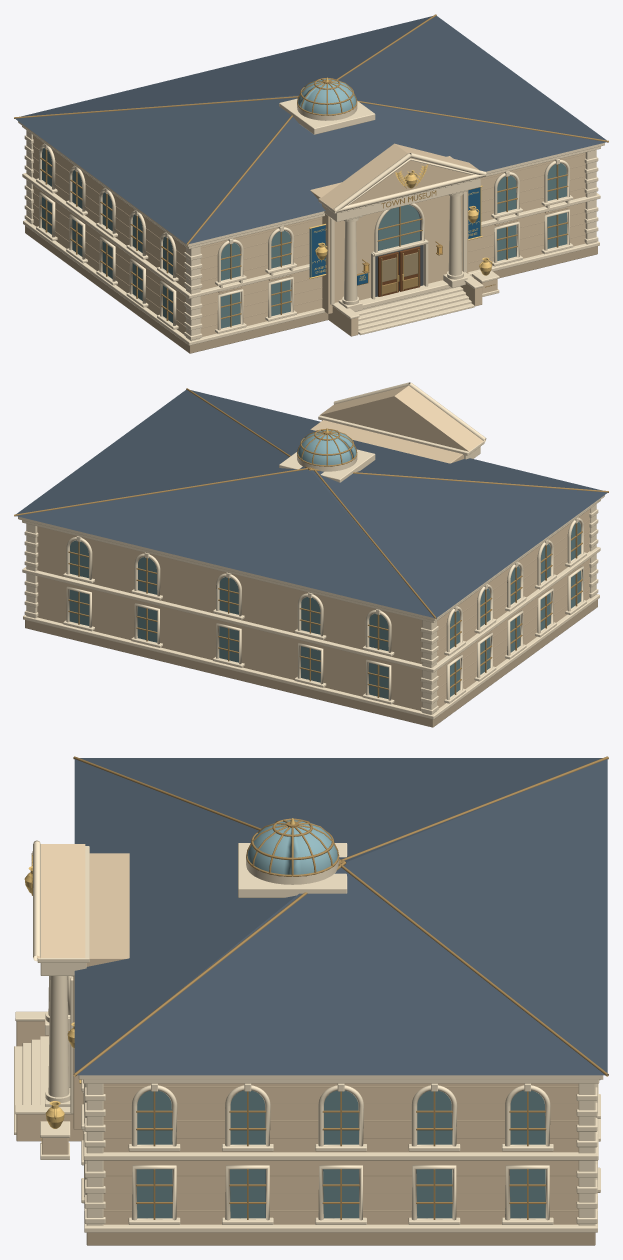
The model's file is SM_Museum_Blockout.fbx.
3 views of the same model, one above another, from view 1: azimuth 30°, elevation 25°; view 2: azimuth 150°, elevation 25°; view 3: azimuth 270°, elevation 25° (orthographic). The views are drawn at different scales.
Visible parts, largest first — view 1: EXPORT_Main_Hipped_Roof, EXPORT_MUS_Main_Two_Storey_Envelope, EXPORT_MUS_Central_Pavilion, EXPORT_Central_Pediment, EXPORT_MUS_Foundation, EXPORT_MUS_Perimeter_Stringcourse.001, EXPORT_MUS_Perimeter_Stringcourse, EXPORT_Central_Arched_Transom_Glass, EXPORT_MUS_Portico_Entablature, EXPORT_MUS_Lantern_Glass_Dome, EXPORT_MUS_Perimeter_Stringcourse.003, EXPORT_MUS_Lantern_Curb (+26 smaller); view 2: EXPORT_Main_Hipped_Roof, EXPORT_MUS_Main_Two_Storey_Envelope, EXPORT_Central_Pediment, EXPORT_MUS_Foundation, EXPORT_MUS_Perimeter_Stringcourse.001, EXPORT_MUS_Perimeter_Stringcourse, EXPORT_MUS_Perimeter_Stringcourse.003, EXPORT_MUS_Central_Pavilion, EXPORT_MUS_Perimeter_Stringcourse.002, EXPORT_MUS_Lantern_Glass_Dome, EXPORT_MUS_Corner_Pilaster.001, EXPORT_MUS_Lantern_Curb (+14 smaller); view 3: EXPORT_Main_Hipped_Roof, EXPORT_MUS_Main_Two_Storey_Envelope, EXPORT_MUS_Foundation, EXPORT_MUS_Central_Pavilion, EXPORT_Central_Pediment, EXPORT_MUS_Perimeter_Stringcourse.001, EXPORT_MUS_Perimeter_Stringcourse, EXPORT_MUS_Lantern_Glass_Dome, EXPORT_MUS_Perimeter_Stringcourse.003, EXPORT_MUS_Perimeter_Stringcourse.002, EXPORT_MUS_Tapered_Column.001, EXPORT_MUS_Lantern_Curb (+31 smaller).
Part boxes in pixels (x1,y1,x2,y2): EXPORT_Main_Hipped_Roof: (15, 16, 606, 244); EXPORT_MUS_Main_Two_Storey_Envelope: (33, 135, 585, 336); EXPORT_MUS_Central_Pavilion: (310, 156, 468, 314); EXPORT_Central_Pediment: (320, 143, 478, 210); EXPORT_MUS_Foundation: (25, 225, 597, 353); EXPORT_MUS_Perimeter_Stringcourse.001: (22, 173, 600, 298); EXPORT_MUS_Perimeter_Stringcourse: (23, 220, 599, 345); EXPORT_Central_Arched_Transom_Glass: (378, 205, 419, 250); EXPORT_MUS_Portico_Entablature: (322, 178, 480, 221); EXPORT_MUS_Lantern_Glass_Dome: (298, 79, 356, 114); EXPORT_MUS_Perimeter_Stringcourse.003: (18, 121, 604, 246); EXPORT_MUS_Lantern_Curb: (279, 98, 375, 134); EXPORT_Main_Hipped_Roof: (16, 389, 607, 618); EXPORT_MUS_Main_Two_Storey_Envelope: (37, 509, 589, 710); EXPORT_Central_Pediment: (320, 385, 484, 451); EXPORT_MUS_Foundation: (25, 599, 597, 727); EXPORT_MUS_Perimeter_Stringcourse.001: (22, 547, 600, 672); EXPORT_MUS_Perimeter_Stringcourse: (23, 594, 599, 719); EXPORT_MUS_Perimeter_Stringcourse.003: (18, 495, 604, 620); EXPORT_MUS_Central_Pavilion: (310, 420, 463, 463); EXPORT_MUS_Perimeter_Stringcourse.002: (22, 499, 600, 622); EXPORT_MUS_Lantern_Glass_Dome: (298, 430, 356, 465); EXPORT_MUS_Corner_Pilaster.001: (422, 620, 436, 714); EXPORT_MUS_Lantern_Curb: (279, 449, 375, 482); EXPORT_Main_Hipped_Roof: (74, 758, 607, 1075); EXPORT_MUS_Main_Two_Storey_Envelope: (103, 1083, 578, 1224); EXPORT_MUS_Foundation: (86, 1232, 595, 1245); EXPORT_MUS_Central_Pavilion: (73, 853, 129, 1129); EXPORT_Central_Pediment: (37, 844, 85, 957); EXPORT_MUS_Perimeter_Stringcourse.001: (83, 1083, 598, 1160); EXPORT_MUS_Perimeter_Stringcourse: (84, 1193, 597, 1232); EXPORT_MUS_Lantern_Glass_Dome: (247, 820, 337, 874); EXPORT_MUS_Perimeter_Stringcourse.003: (78, 1075, 603, 1079); EXPORT_MUS_Perimeter_Stringcourse.002: (83, 1079, 599, 1083); EXPORT_MUS_Tapered_Column.001: (48, 976, 69, 1097); EXPORT_MUS_Lantern_Curb: (238, 843, 347, 897).
Size of the model in its own units: 3108 by 2455 by 1248.
